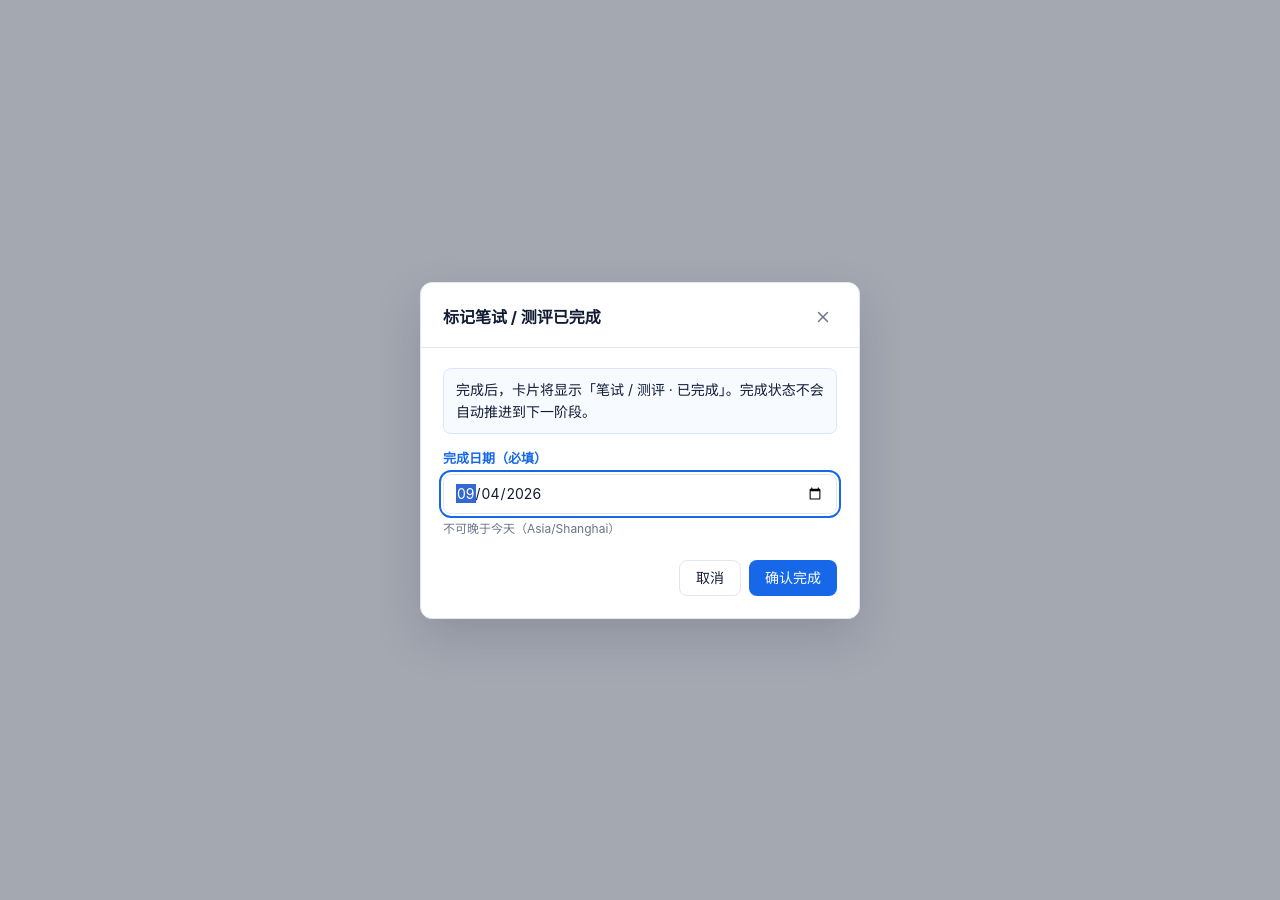
Scenario: CompletionFormDialog › keeps the dialog open and shows a safe API error
Click the button with test id "completion-form-submit" at point(793, 578), box [749,560,837,596]
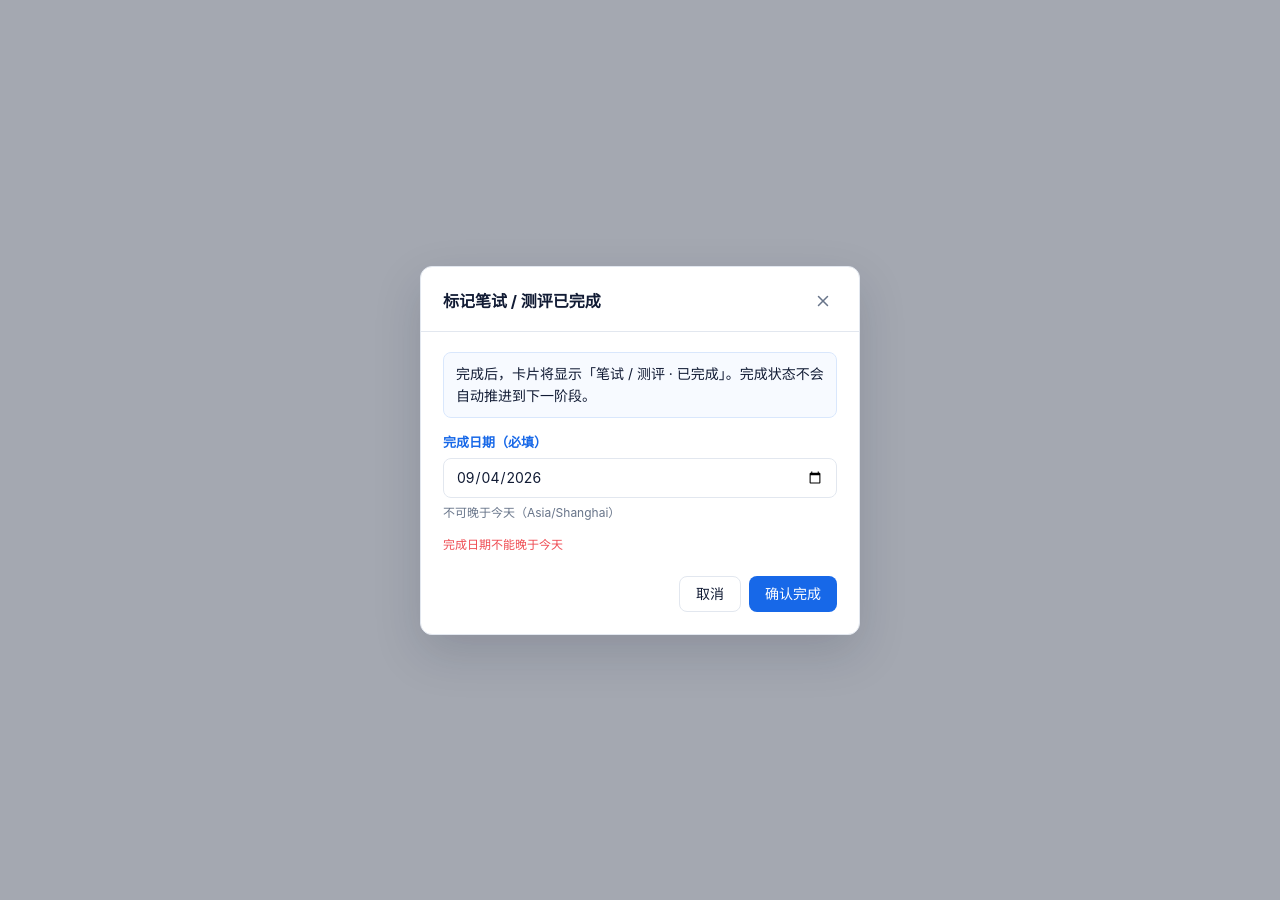
Result: the message reads "完成日期不能晚于今天" at [443,536,563,552]
